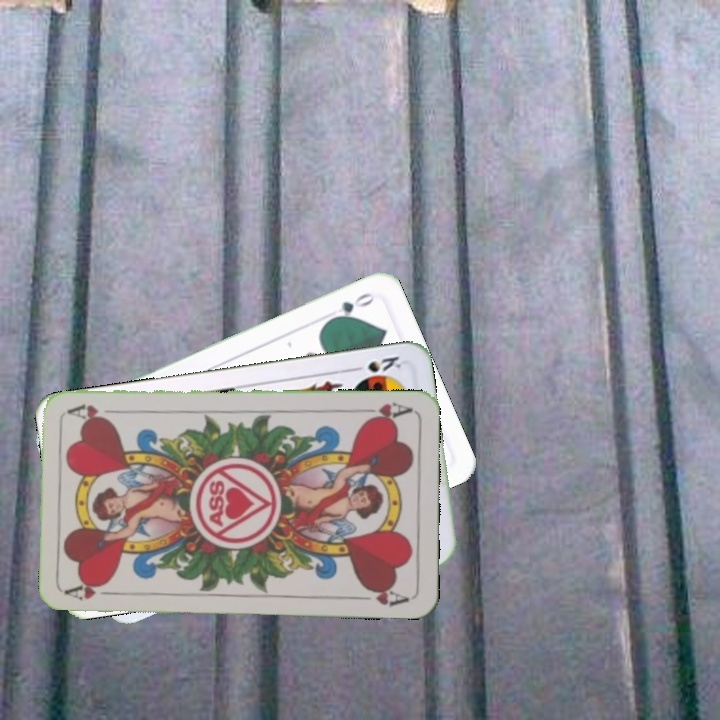GO: (324, 288, 378, 325)
HA: (354, 398, 413, 424), (63, 581, 122, 603)
SK: (346, 352, 404, 375)
